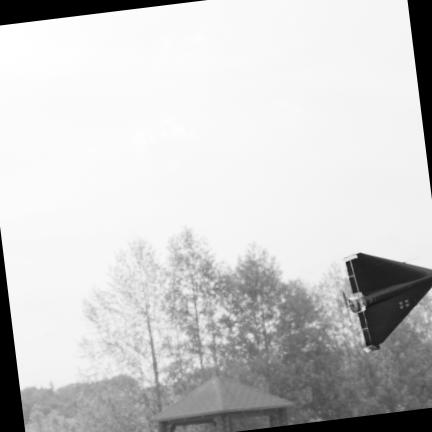Shahed: (343, 253, 432, 352)
